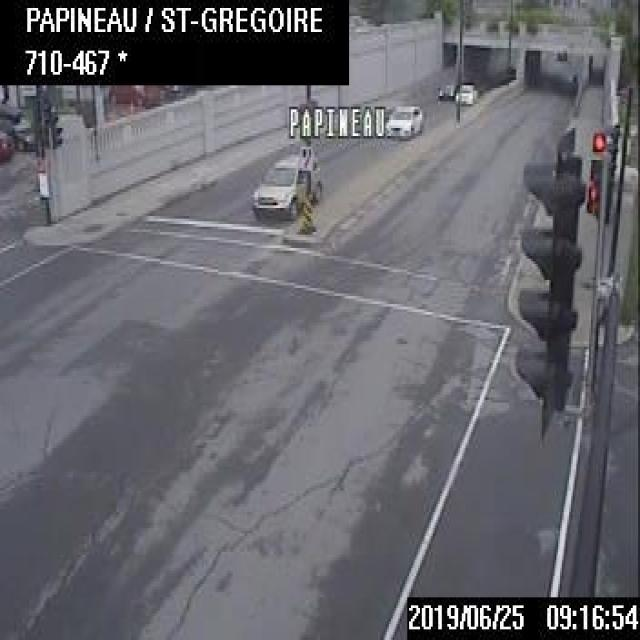vehicle: (247, 147, 320, 221), (0, 100, 33, 151), (380, 99, 424, 136), (106, 81, 160, 109), (452, 81, 480, 104), (0, 128, 15, 165), (436, 79, 455, 99)
